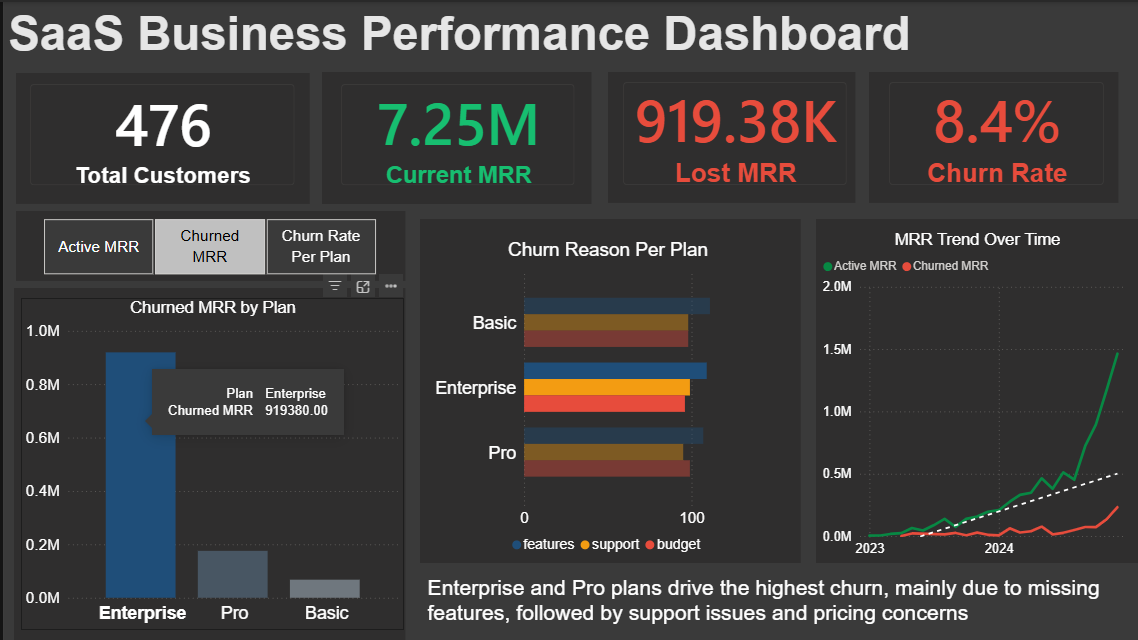

Layout of this report page (visuals, bound fields, positions):
{"tool":"powerbi","page":{"name":"SaaS Dashboard","canvas":[1280,720],"ordinal":0},"visuals":[{"type":"shape","box":[13.8,235,438.8,78.8],"z":0},{"type":"shape","box":[468.7,244.5,429.3,387.6],"z":1000},{"type":"shape","box":[680,78.8,278.8,147.5],"z":2000},{"type":"shape","box":[13.8,80,331.2,147.5],"z":3000},{"type":"shape","box":[358.8,78.8,303.8,148.8],"z":4000},{"type":"shape","box":[914.9,244.5,365.1,387.6],"z":5000},{"type":"cardVisual","fields":{"Data":["_measures.Active MRR"]},"box":[362.5,75,297.5,148.8],"z":6000},{"type":"shape","box":[11.2,322.5,441.2,398.8],"z":7000},{"type":"cardVisual","fields":{"Data":["_measures.Churned MRR"]},"box":[680,73.8,286.2,150],"z":8000},{"type":"textbox","box":[0,0,1118.5,75.5],"z":9000},{"type":"shape","box":[975,78.8,281.2,147.5],"z":10000},{"type":"cardVisual","fields":{"Data":["_measures.Churn Rate"]},"box":[980,73.8,276.2,150],"z":11000},{"type":"cardVisual","fields":{"Data":["_measures.Total Customers"]},"box":[12.5,75,332.5,148.8],"z":12000},{"type":"columnChart","fields":{"Y":["_measures.Active MRR"],"Category":["ravenstack_subscriptions_fact.Plan"]},"box":[18.8,333.8,432.5,373.8],"z":13000},{"type":"clusteredBarChart","title":"Churn Reason Per Plan","fields":{"Category":["ravenstack_subscriptions_fact.Plan"],"Y":["_measures.Churn Reason Per Plan"],"Series":["Churn Reasons Table.reason_code"]},"box":[472.1,267,416.9,365.1],"z":14000},{"type":"slicer","fields":{"Values":["Plans Parameter.Plans Parameter"]},"box":[18.8,237.5,423.8,76.2],"z":15000},{"type":"lineChart","title":"MRR Trend Over Time","fields":{"Category":["ravenstack_subscriptions_fact.Start_Date.Variation.Date Hierarchy.Year","ravenstack_subscriptions_fact.Start_Date.Variation.Date Hierarchy.Quarter","ravenstack_subscriptions_fact.Start_Date.Variation.Date Hierarchy.Month","ravenstack_subscriptions_fact.Start_Date.Variation.Date Hierarchy.Day"],"Y":["Sum(ravenstack_subscriptions_fact.Monthly Revenue)","_measures.Churned MRR"]},"box":[917.2,256.9,359.4,375.2],"z":16000},{"type":"textbox","box":[472.1,641.1,784.2,66.5],"z":17000}]}

Visuals, with their boxes in screenshot pixels (x1, y1, x2, y2), scaled from the page's 1280x720 canvas onto the 1138x640 screenshot:
shape: 12/209/402/279
shape: 417/217/798/562
shape: 605/70/852/201
shape: 12/71/307/202
shape: 319/70/589/202
shape: 813/217/1137/562
cardVisual - _measures.Active MRR: 322/67/587/199
shape: 10/287/402/639
cardVisual - _measures.Churned MRR: 605/66/859/199
textbox: 0/0/994/67
shape: 867/70/1117/201
cardVisual - _measures.Churn Rate: 871/66/1117/199
cardVisual - _measures.Total Customers: 11/67/307/199
columnChart - _measures.Active MRR x ravenstack_subscriptions_fact.Plan: 17/297/401/629
"Churn Reason Per Plan" clusteredBarChart: 420/237/790/562
slicer - Plans Parameter.Plans Parameter: 17/211/393/279
"MRR Trend Over Time" lineChart: 815/228/1135/562
textbox: 420/570/1117/629
